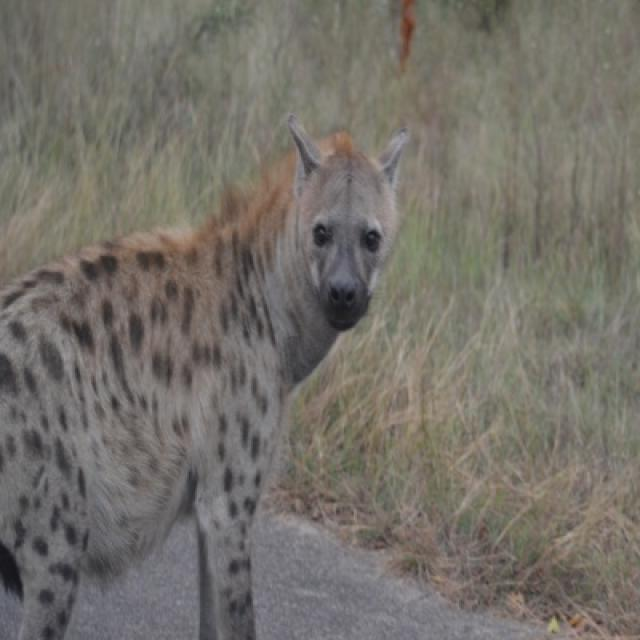hyena: (0, 117, 408, 638)
